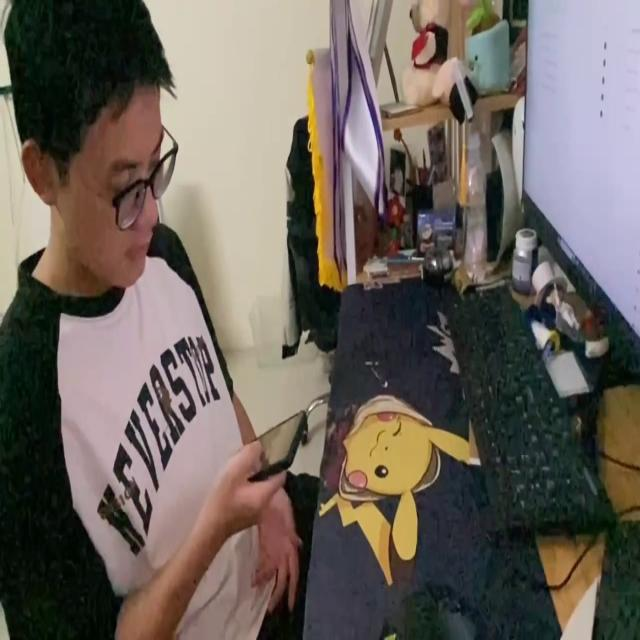laptop: (521, 0, 640, 372)
phone: (244, 410, 310, 474)
student: (2, 0, 311, 640)
